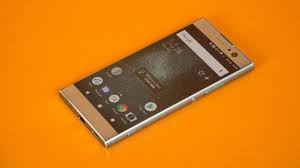sony: (58, 17, 256, 149)
